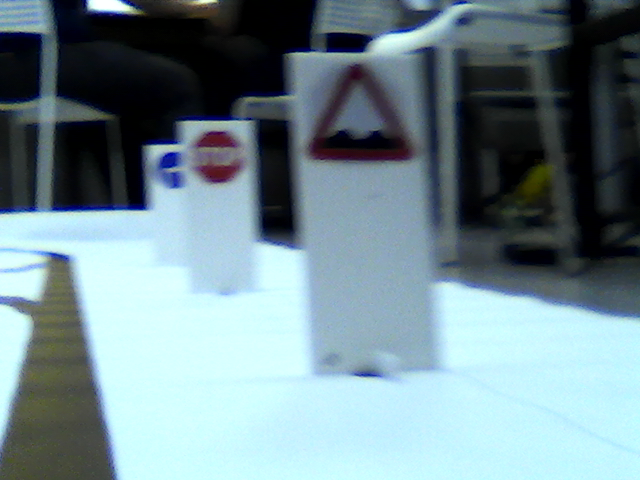Nerov: (306, 64, 410, 164)
Stop: (191, 129, 245, 182)
